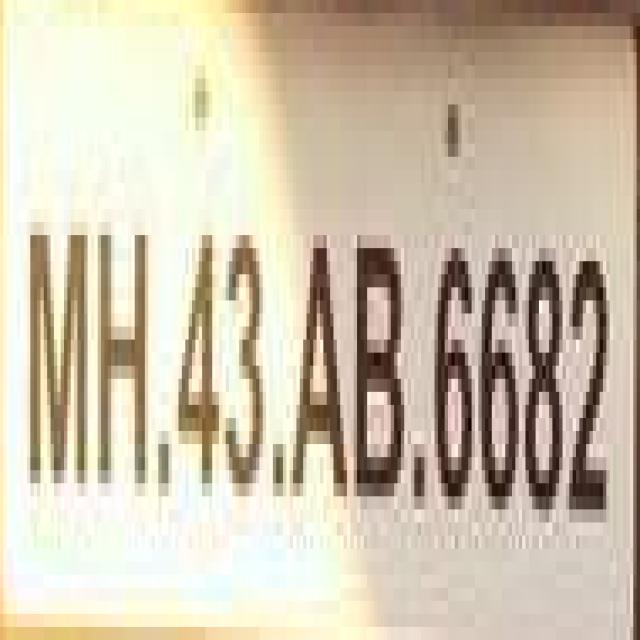license_plate: (20, 0, 640, 588)
